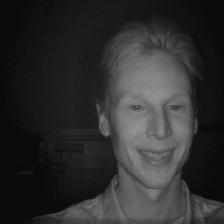happy: (85, 22, 214, 203)
